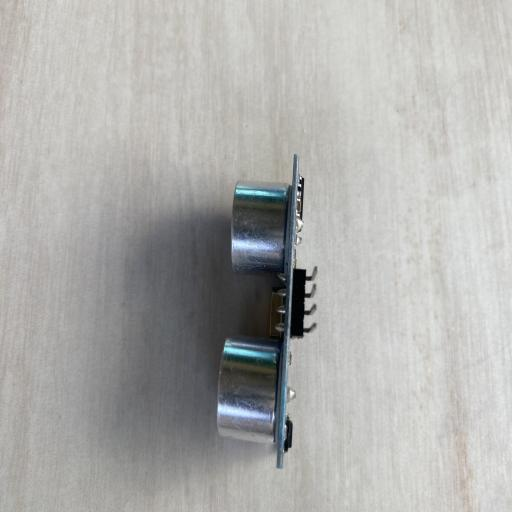Ultrasonic Sensor: (217, 152, 320, 469)
